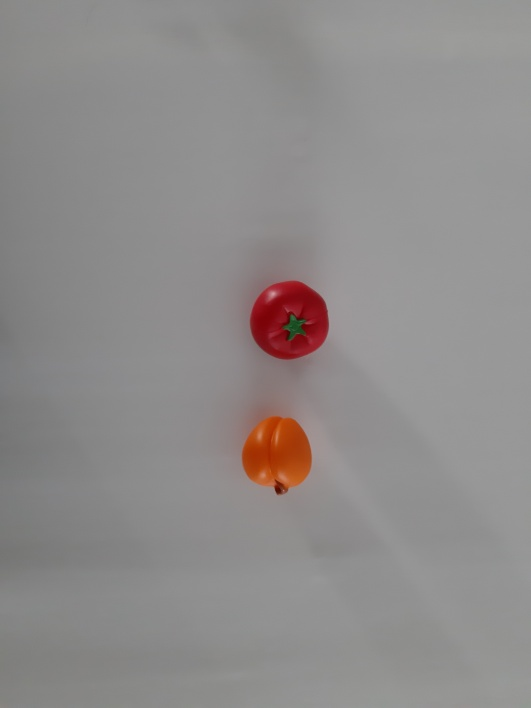apricot: (218, 401, 338, 506)
tomato: (238, 267, 343, 378)
